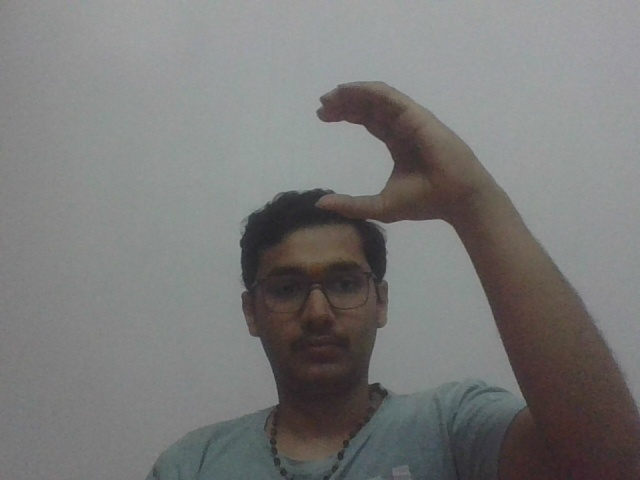C: (307, 76, 496, 219)
